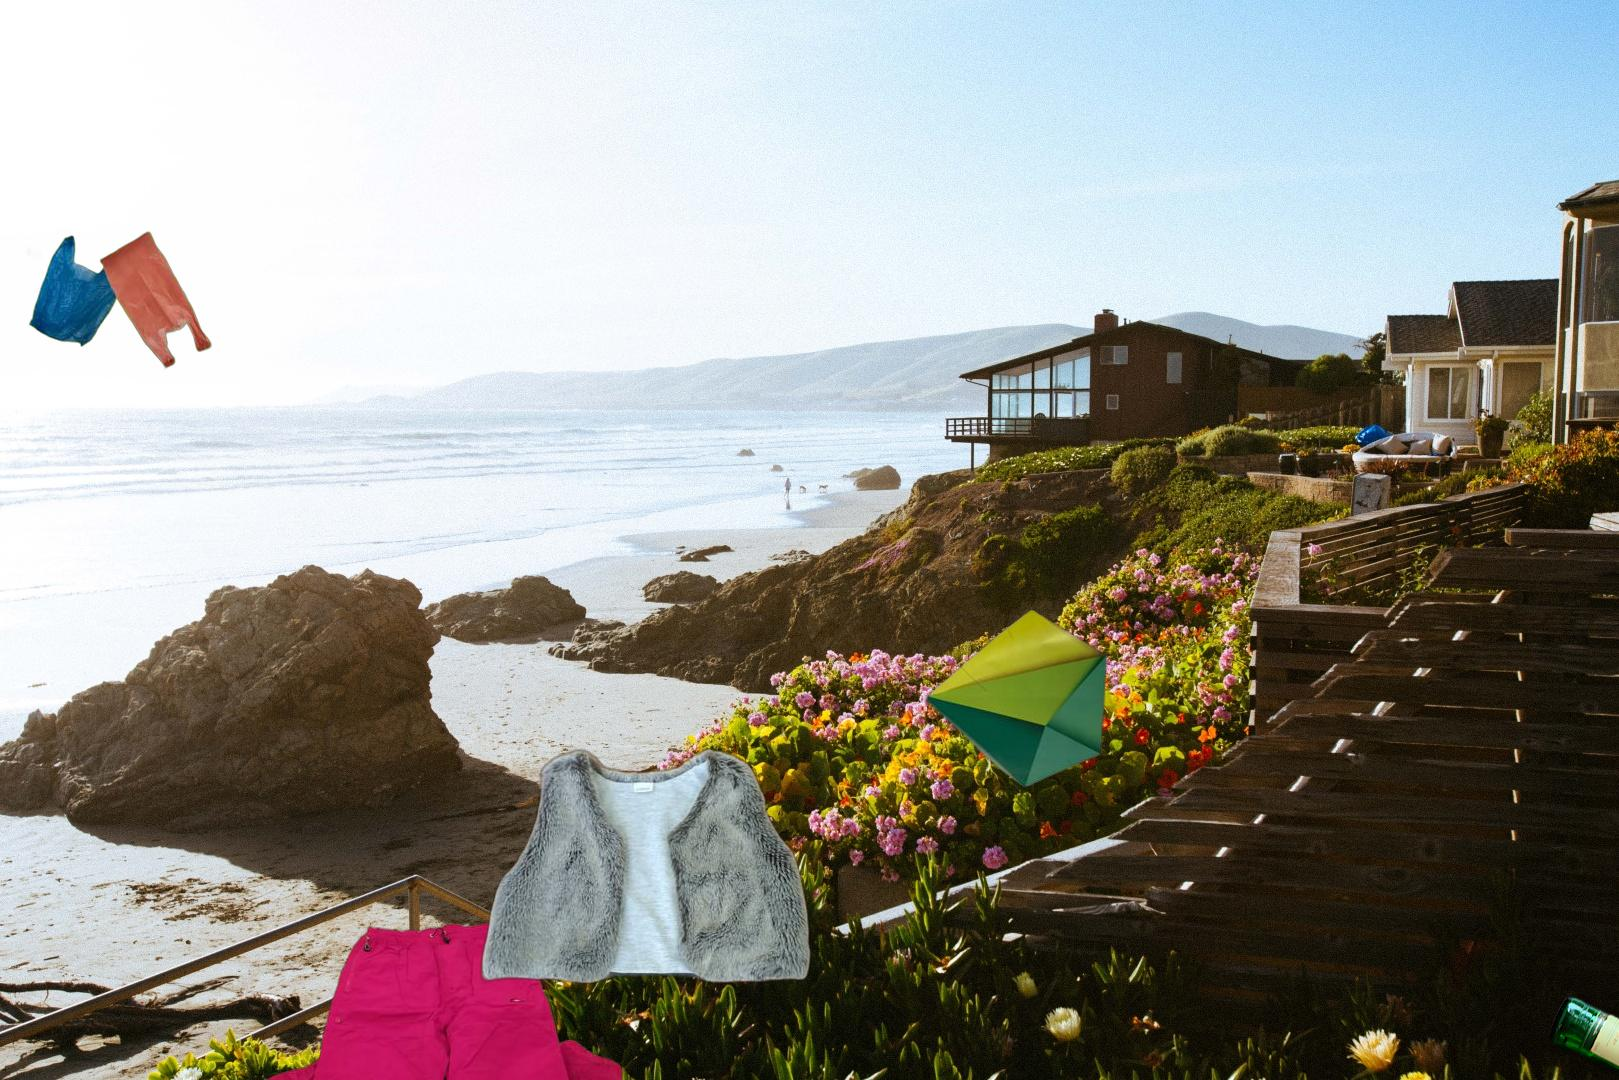clothes: (477, 744, 814, 990), (245, 912, 629, 1080)
glass: (1544, 991, 1619, 1080)
paper: (920, 607, 1111, 791)
plastic-bag: (24, 230, 215, 371)
trashbox-cardboard: (1608, 827, 1619, 1080)
